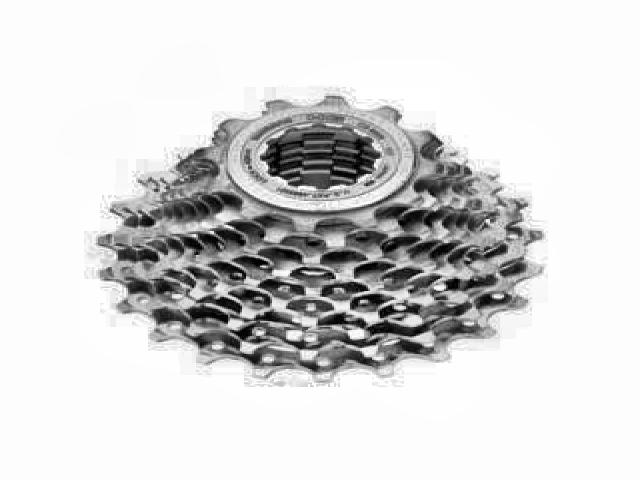cassette: (95, 96, 546, 385)
